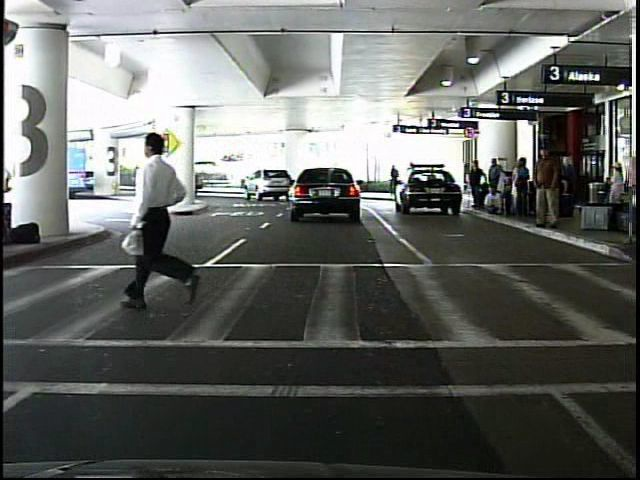person: (107, 128, 219, 311), (529, 142, 564, 232), (468, 158, 486, 210), (388, 164, 401, 198), (131, 164, 143, 189)
